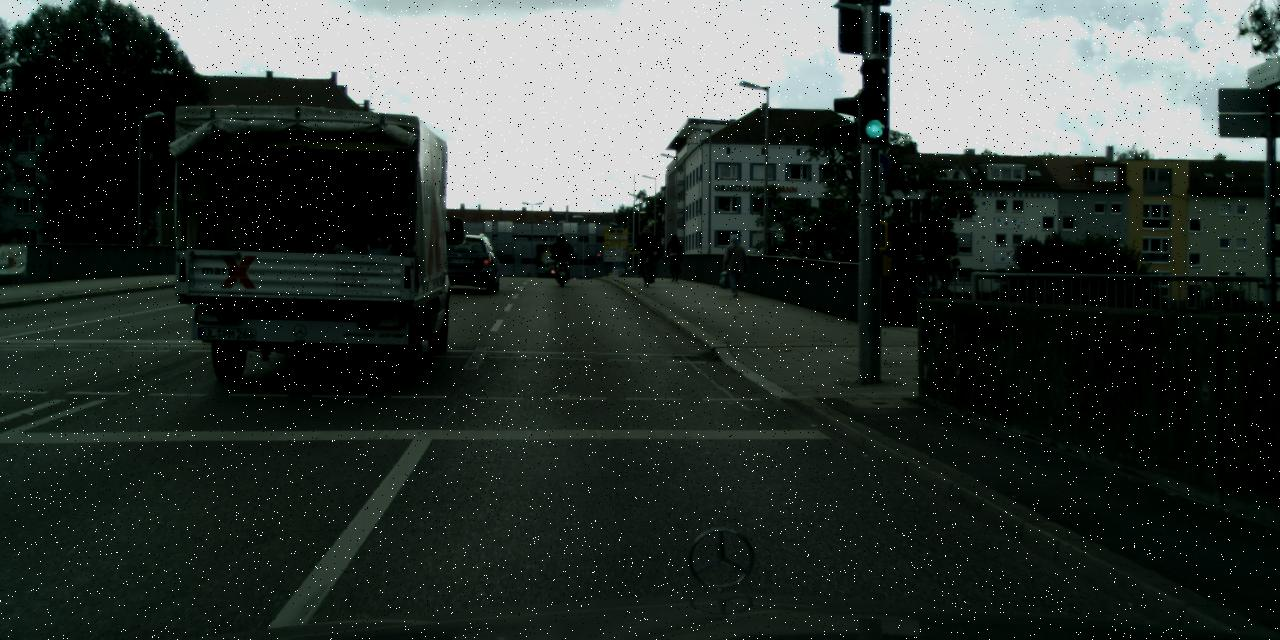ped: (722, 234, 746, 294), (635, 226, 657, 278), (551, 232, 571, 282), (666, 234, 682, 275)
